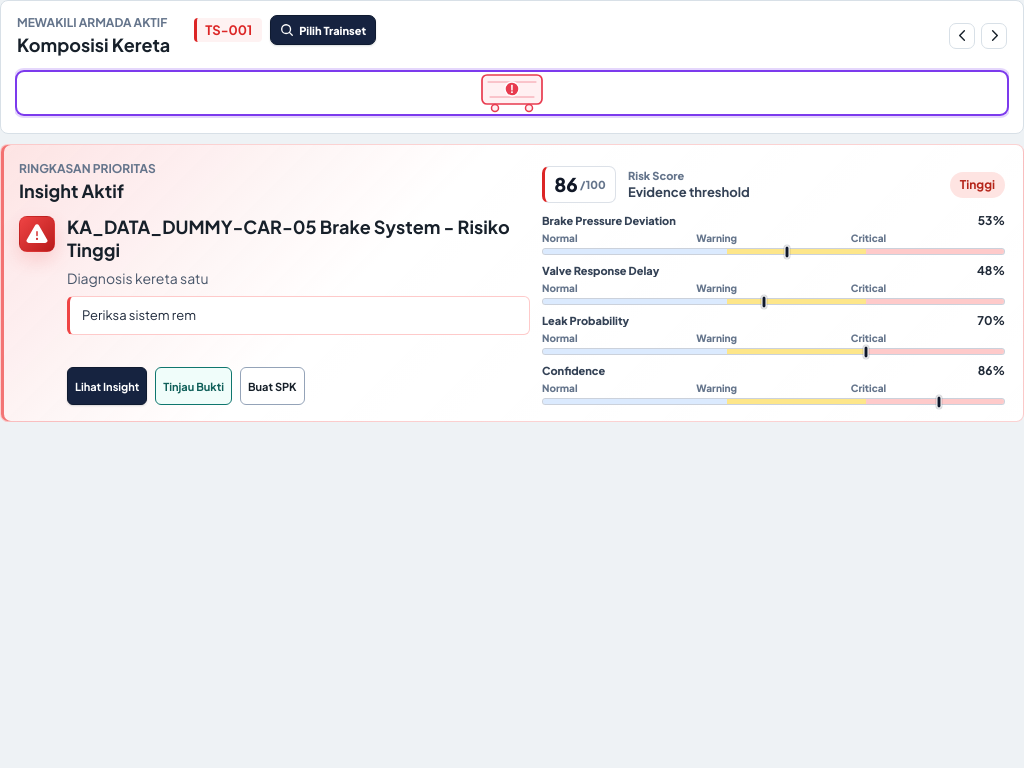
Test: InteractiveTrainsetPanel › opens all compositions and recommends trainsets from the first typed character
Step 1. Click the button "Pilih Trainset" → (323, 30), box x1=270 y1=15 x2=376 y2=45
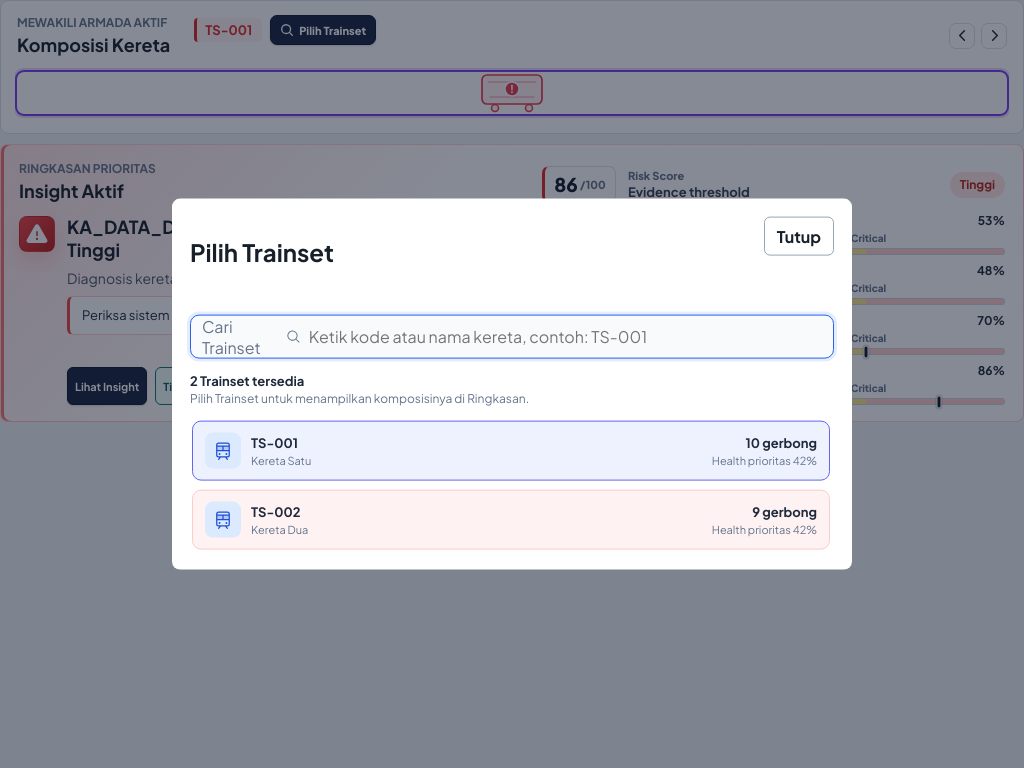
Step 2. Type "T" into the field labelled "Cari Trainset" → (565, 336), box x1=309 y1=315 x2=822 y2=357
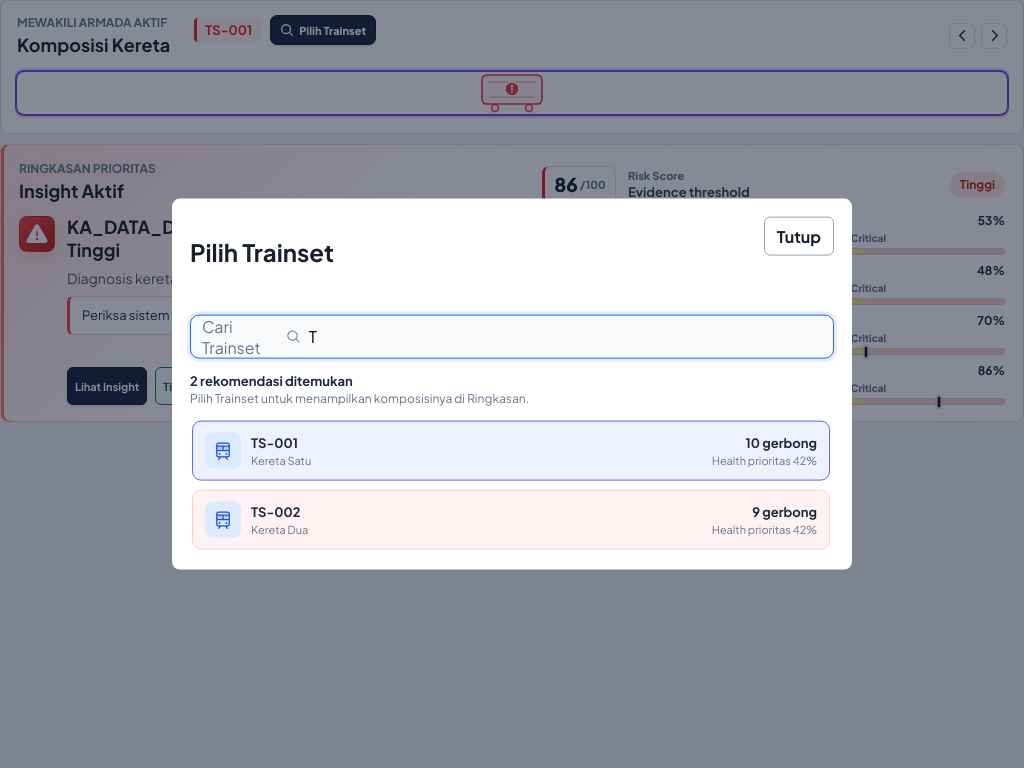
Now the option "TS-001 Kereta Satu 10 gerbong Health prioritas 42%" is shown, box x1=192 y1=420 x2=830 y2=480
Now the option "TS-002 Kereta Dua 9 gerbong Health prioritas 42%" is shown
Now the text "2 rekomendasi ditemukan" is shown, box x1=190 y1=372 x2=353 y2=388
Step 3. Click the option "TS-002 Kereta Dua 9 gerbong Health prioritas 42%" → (223, 519), box x1=192 y1=489 x2=830 y2=549
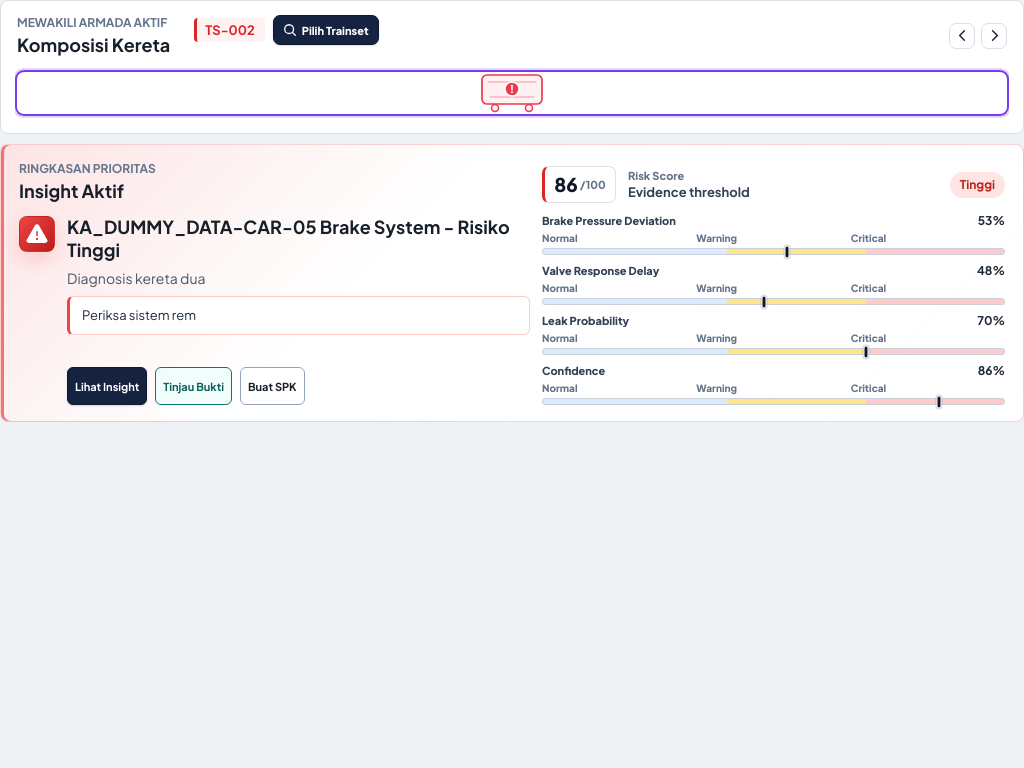
Now the text titled "Kereta Dua" reads "TS-002", box x1=205 y1=22 x2=255 y2=38
